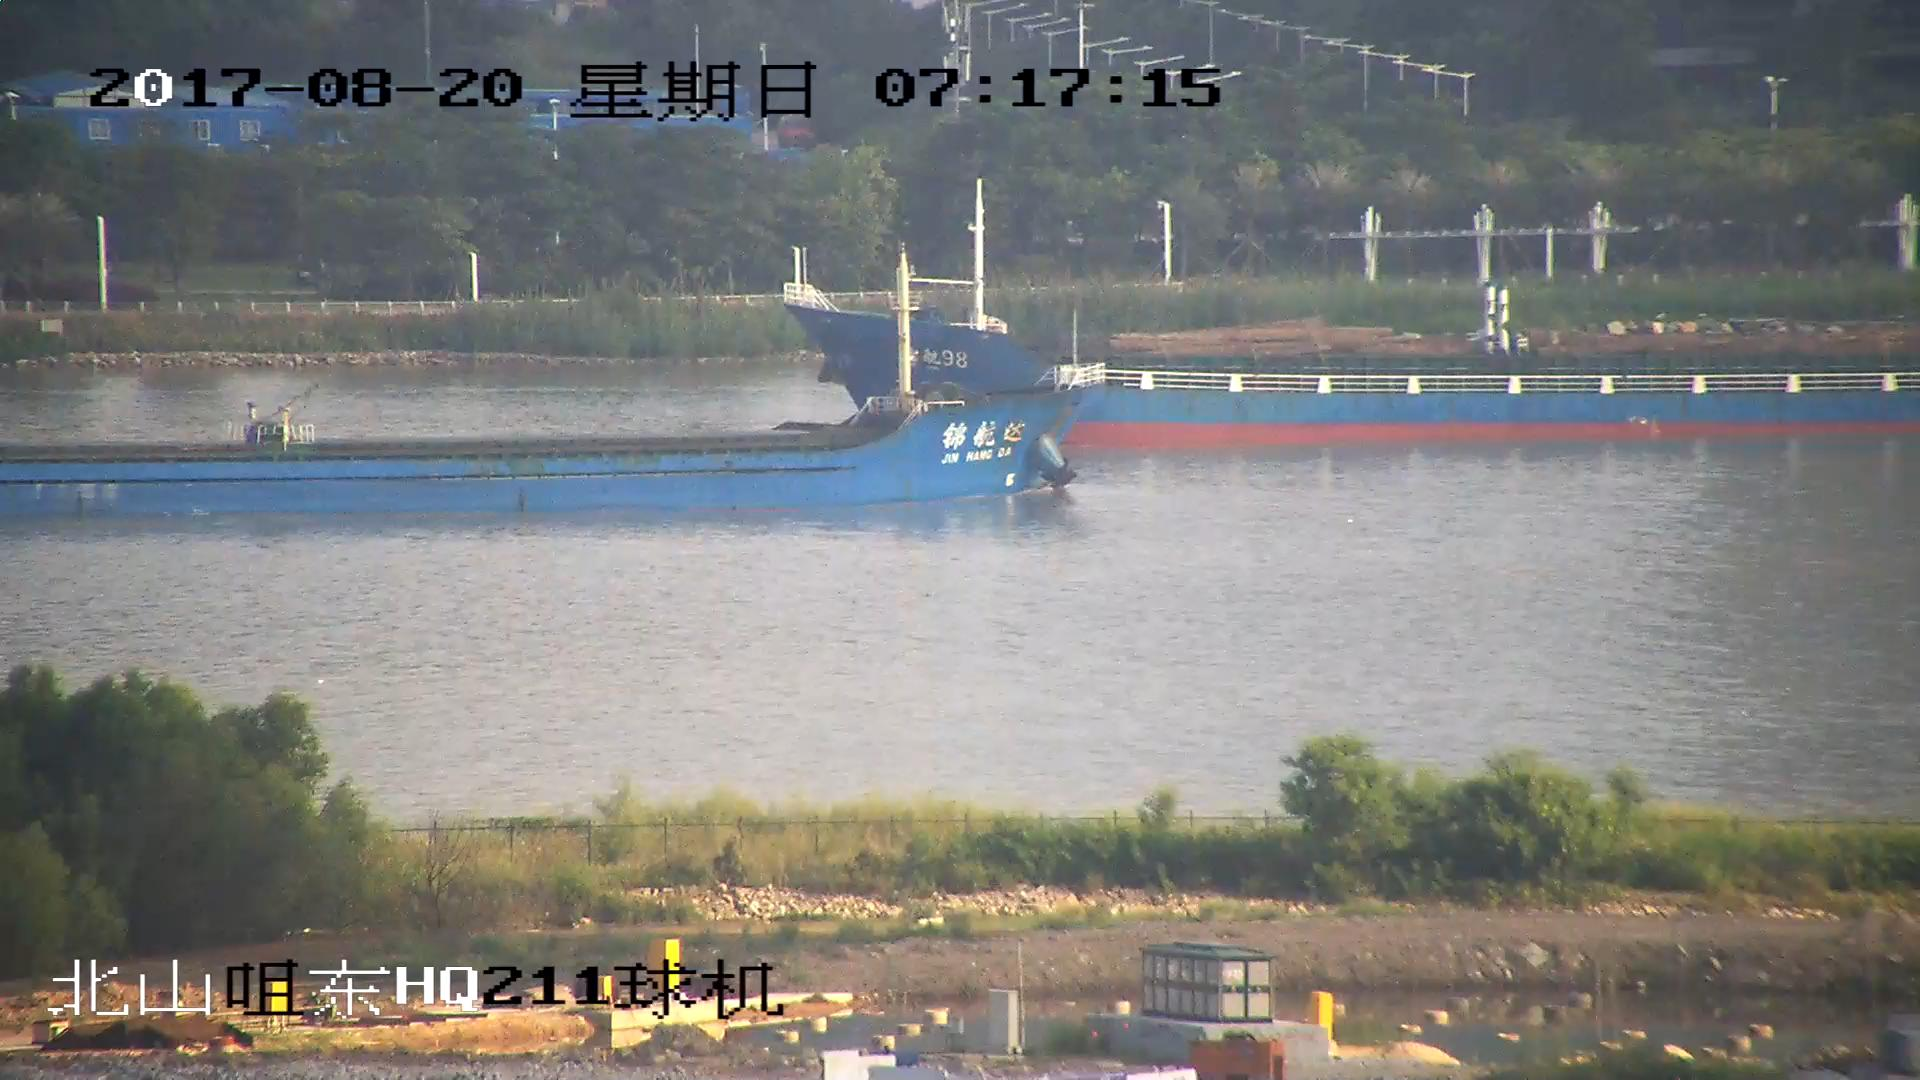general cargo ship: (1, 252, 1083, 534), (775, 192, 1920, 438)
